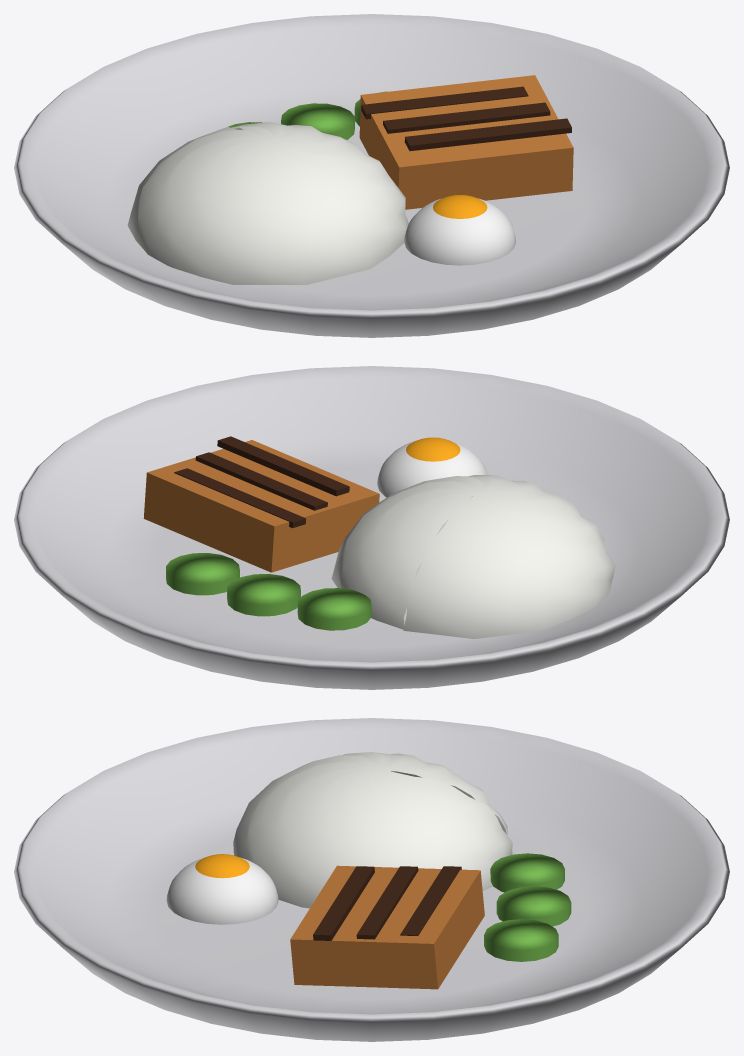
File: Dish_04_GrilledChickenBoiledEgg.obj
3 views of the same model, one above another, from view 1: azimuth 30°, elevation 25°; view 2: azimuth 150°, elevation 25°; view 3: azimuth 270°, elevation 25° (orthographic).
Parts seen in each view (by area): view 1: Mat_FoodPlate, Mat_RiceMound, Mat_GrilledChicken, Mat_GrillMark, Mat_EggWhite, Mat_Vegetables, Mat_EggYolk; view 2: Mat_FoodPlate, Mat_RiceMound, Mat_GrilledChicken, Mat_Vegetables, Mat_GrillMark, Mat_EggWhite, Mat_EggYolk; view 3: Mat_FoodPlate, Mat_RiceMound, Mat_GrilledChicken, Mat_Vegetables, Mat_EggWhite, Mat_GrillMark, Mat_EggYolk.
Part boxes in pixels (x1,y1,x2,y2): Mat_FoodPlate: (14,14,729,337); Mat_RiceMound: (127,122,408,284); Mat_GrilledChicken: (359,75,573,209); Mat_GrillMark: (361,86,571,151); Mat_EggWhite: (404,198,516,265); Mat_Vegetables: (228,91,387,139); Mat_EggYolk: (433,195,487,218); Mat_FoodPlate: (14,366,729,689); Mat_RiceMound: (331,475,615,638); Mat_GrilledChicken: (143,440,379,572); Mat_Vegetables: (166,553,371,630); Mat_GrillMark: (174,436,349,528); Mat_EggWhite: (377,441,487,497); Mat_EggYolk: (406,437,460,461); Mat_FoodPlate: (14,718,729,1041); Mat_RiceMound: (233,752,512,908); Mat_GrilledChicken: (290,865,484,989); Mat_Vegetables: (484,853,571,961); Mat_EggWhite: (166,857,278,924); Mat_GrillMark: (313,866,461,940); Mat_EggYolk: (195,854,249,878).
Bounding box in the file's own units: 0.23 × 0.0366 × 0.23.
